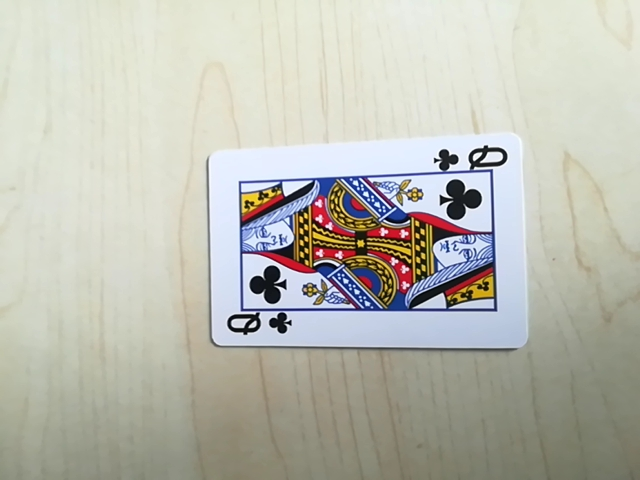mh q: (219, 308, 291, 344), (432, 140, 510, 173)
